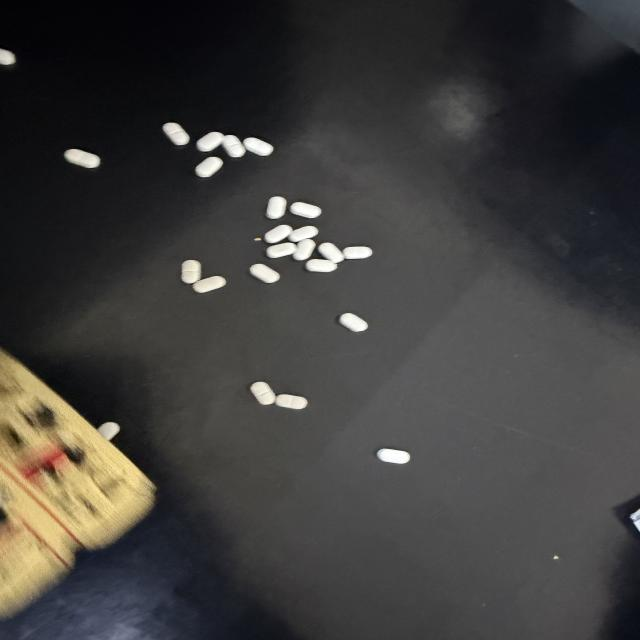pill: (64, 149, 100, 168), (163, 123, 189, 145), (193, 276, 226, 293), (195, 157, 223, 177), (250, 264, 279, 283), (250, 382, 275, 404), (243, 138, 273, 156), (196, 132, 223, 152), (339, 313, 368, 331), (318, 243, 344, 263), (222, 135, 245, 157), (264, 225, 292, 243), (290, 202, 321, 218), (181, 260, 201, 284), (276, 394, 307, 409), (289, 226, 318, 242), (377, 449, 410, 463), (293, 239, 315, 260), (266, 196, 286, 219), (266, 243, 296, 258), (97, 422, 120, 440), (306, 259, 337, 272), (343, 247, 372, 259), (0, 49, 16, 65)
